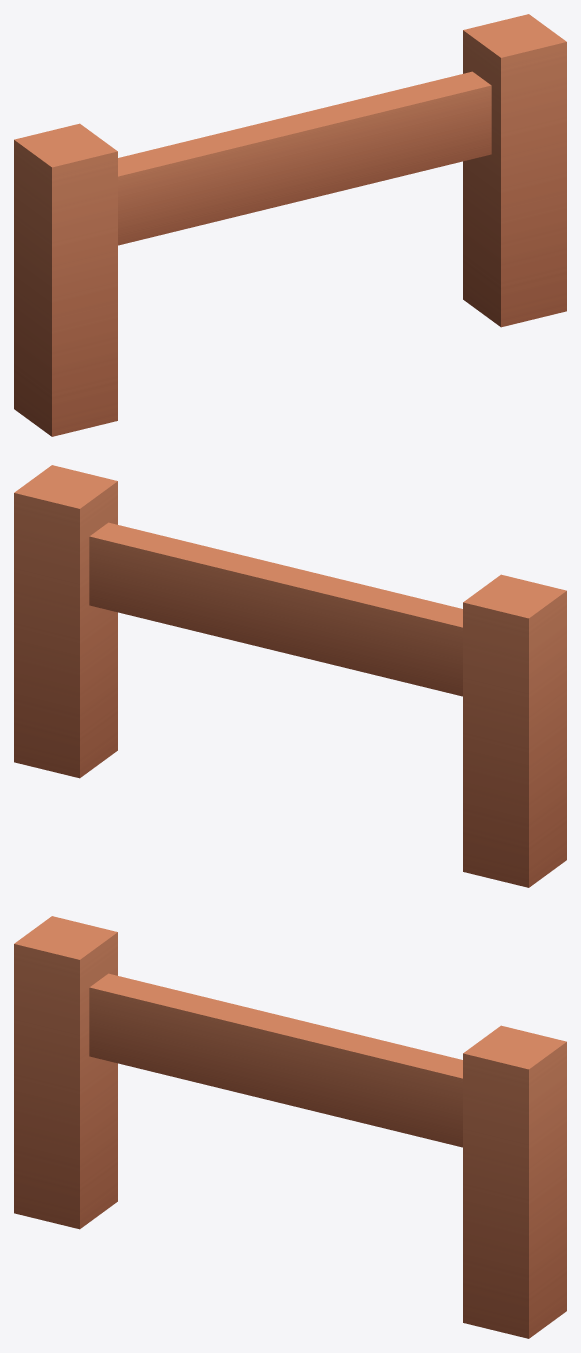
File: wood-structure-part.fbx
3 renders of one model, top to bottom at view 1: azimuth 30°, elevation 25°; view 2: azimuth 150°, elevation 25°; view 3: azimuth 330°, elevation 25°, orthographic.
Parts seen in each view (by area): view 1: wood-structure-part; view 2: wood-structure-part; view 3: wood-structure-part.
Part boxes in pixels (x1,y1,x2,y2): wood-structure-part: (14, 14, 566, 436); wood-structure-part: (14, 465, 566, 887); wood-structure-part: (14, 916, 566, 1338).
Size of the model in its own units: 100 by 50 by 12.8.
